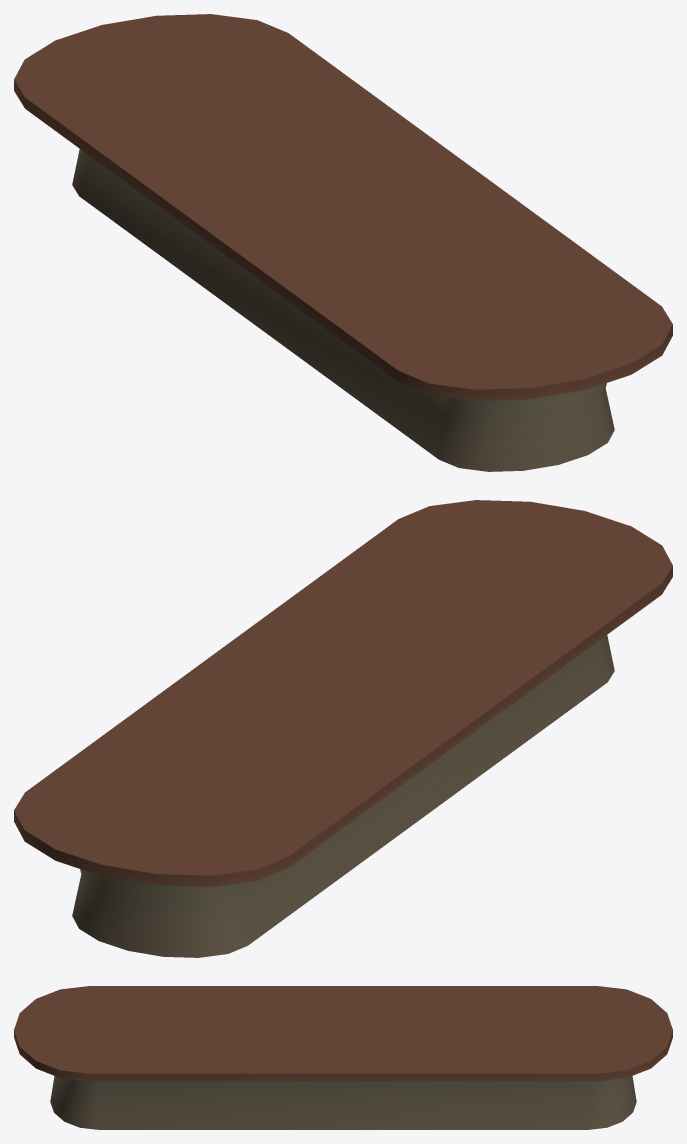
File: LongDiningTable.fbx
The picture shows the model from 3 angles, top to bottom: view 1: azimuth 30°, elevation 25°; view 2: azimuth 150°, elevation 25°; view 3: azimuth 270°, elevation 25°; orthographic projection. The views are drawn at different scales.
Parts seen in each view (by area): view 1: LongDiningTable; view 2: LongDiningTable; view 3: LongDiningTable.
Boxes of the visible parts, box(x1,y1,x2,y2) form: LongDiningTable: box(14, 14, 672, 471); LongDiningTable: box(14, 500, 672, 957); LongDiningTable: box(14, 986, 672, 1129).
Size of the model in its own units: 486 by 186 by 1544.
